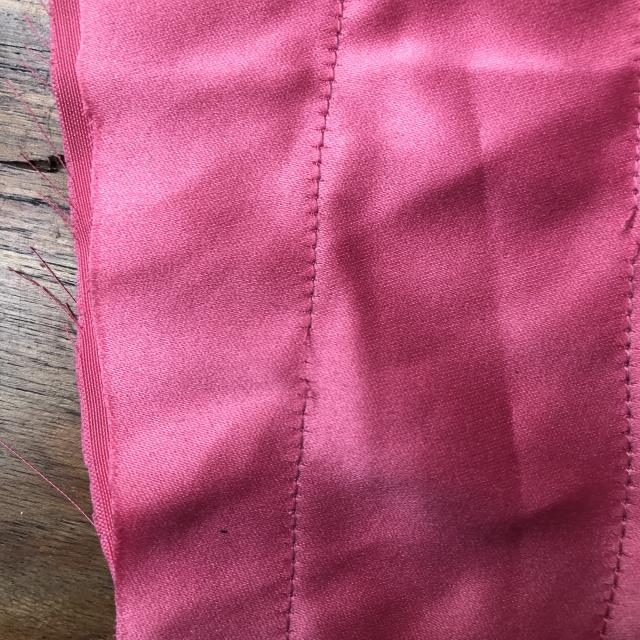broken: (280, 306, 344, 409)
